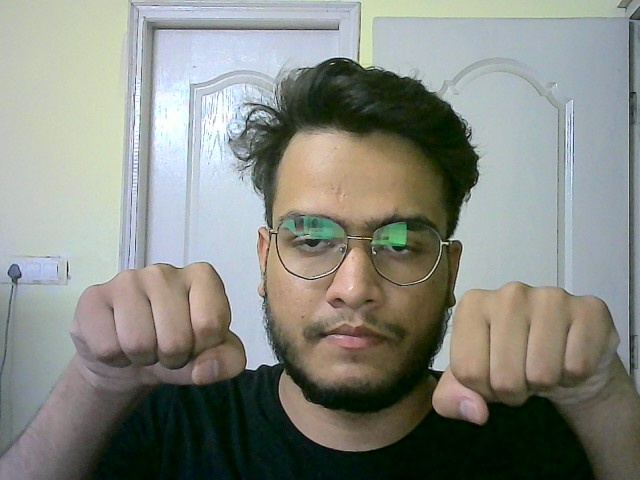Yes: (55, 254, 251, 398), (430, 279, 618, 423)
